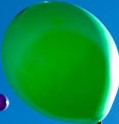Balloon: (4, 2, 119, 122)
